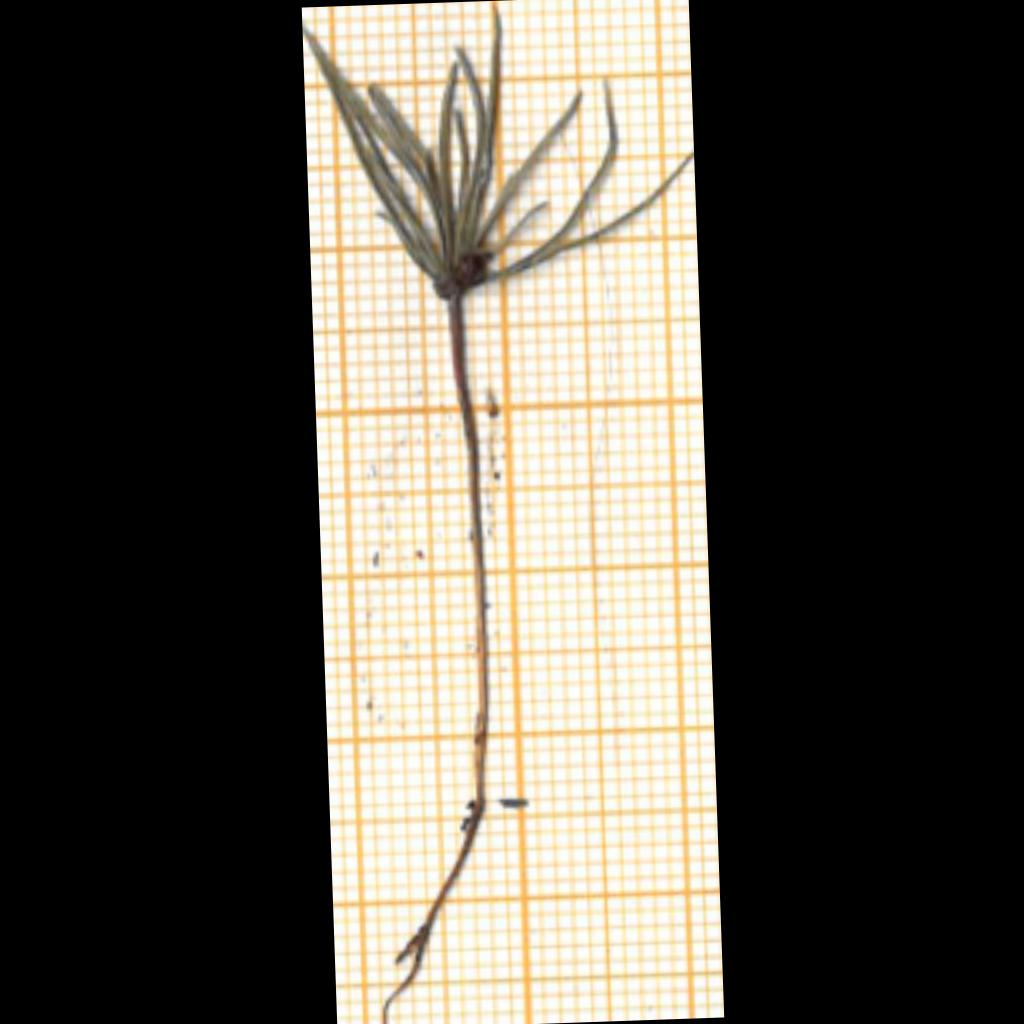flowerPinus: (302, 10, 693, 300)
rootPinus: (384, 804, 483, 1023)
stemPinus: (448, 295, 489, 811)
